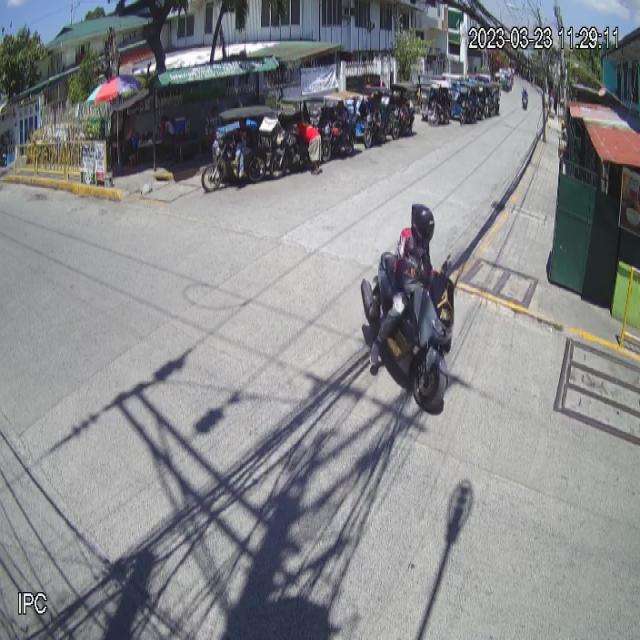Motorcycle: (360, 240, 455, 411)
